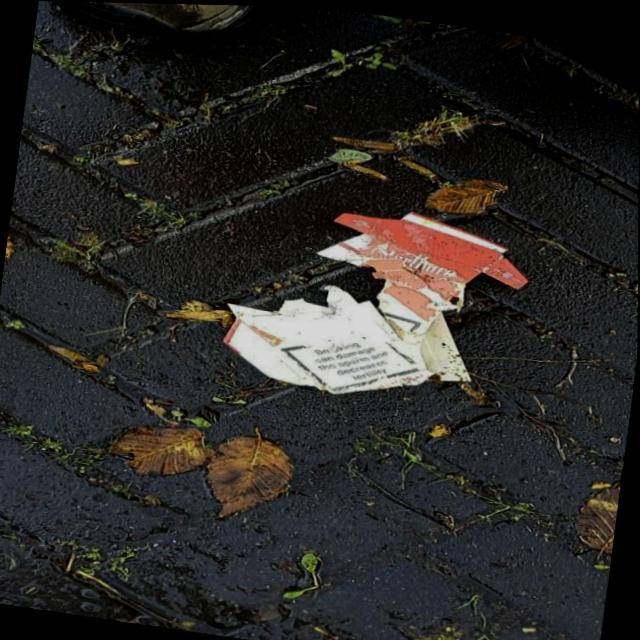Paper: (207, 180, 539, 419)
